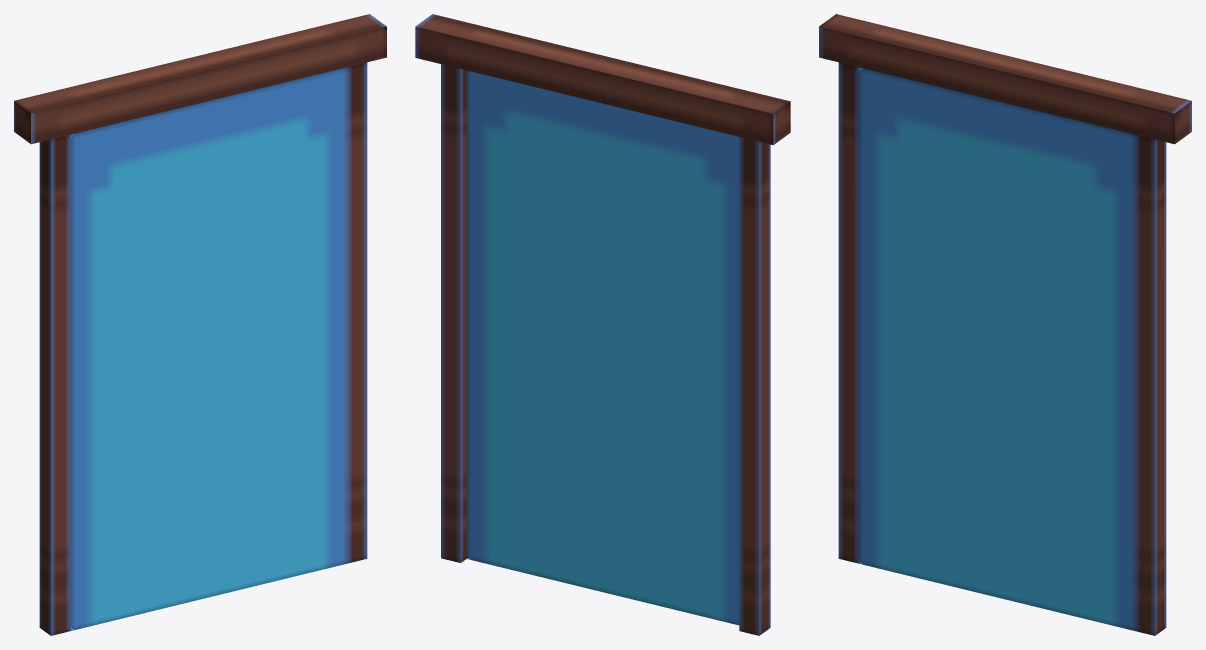
The model's file is ExitDoor.obj.
The picture shows the model from 3 angles, left to right: view 1: azimuth 30°, elevation 25°; view 2: azimuth 150°, elevation 25°; view 3: azimuth 330°, elevation 25°; orthographic projection.
Visible parts, largest first — view 1: cube; view 2: cube; view 3: cube.
Part boxes in pixels (x1,y1,x2,y2): cube: (14, 14, 386, 635); cube: (415, 14, 790, 635); cube: (819, 14, 1191, 635).
Bounding box in the file's own units: 2.25 × 3.19 × 0.1875.
